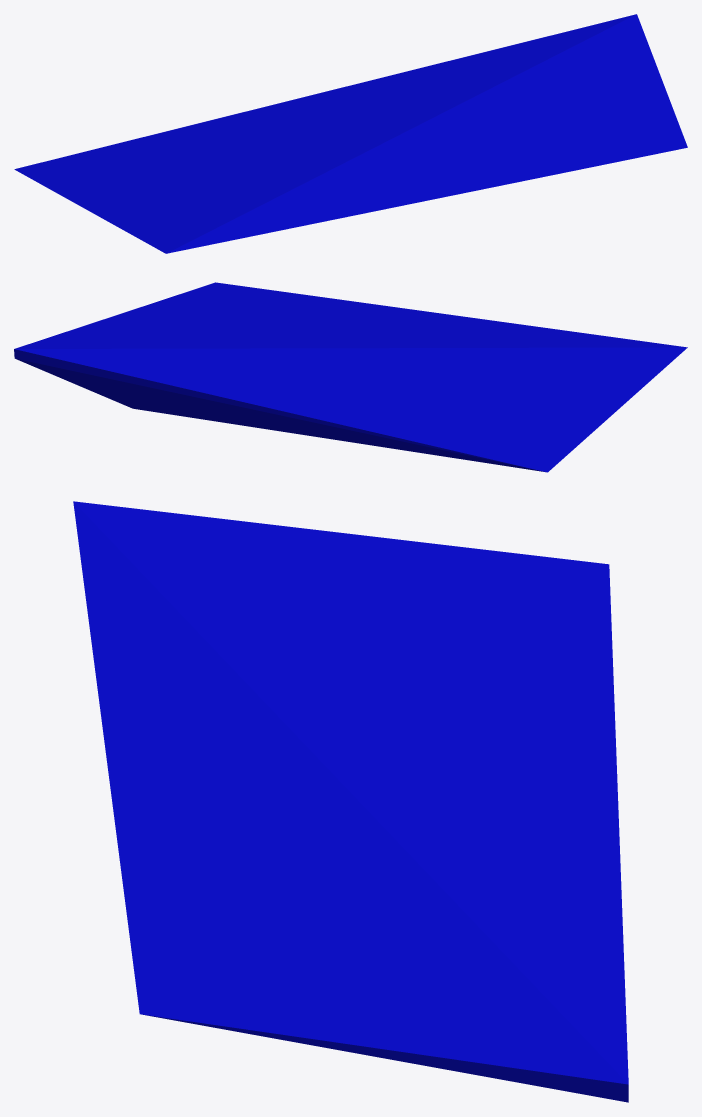
The model's file is torso_convex_piece_020.obj.
3 renders of one model, top to bottom at view 1: azimuth 30°, elevation 25°; view 2: azimuth 150°, elevation 25°; view 3: azimuth 270°, elevation 25°, orthographic. The views are drawn at different scales.
Bounding box in the file's own units: 0.0998 × 0.0123 × 0.0448.
